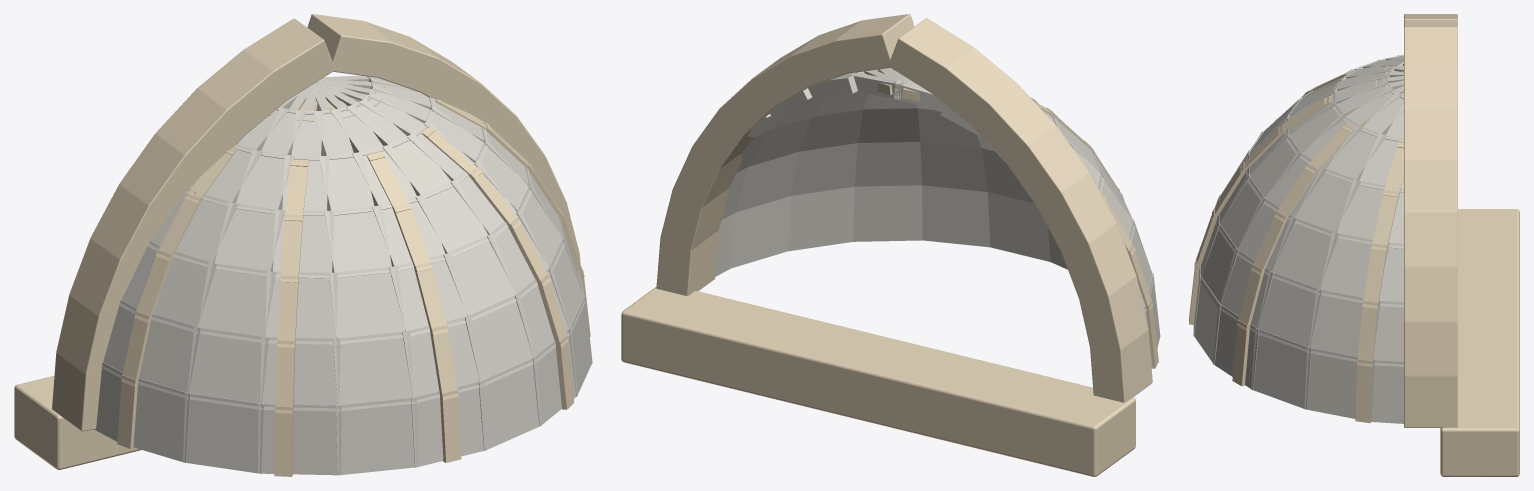
Rendered from half-dome-hood-45942f72.glb.
3 views of the same model, side by side, from view 1: azimuth 30°, elevation 25°; view 2: azimuth 150°, elevation 25°; view 3: azimuth 270°, elevation 25° (orthographic). The views are drawn at different scales.
Parts seen in each view (by area): view 1: half-dome-hood; view 2: half-dome-hood; view 3: half-dome-hood.
Part boxes in pixels (x1=…): half-dome-hood: x1=14, y1=14, x2=592, y2=476; half-dome-hood: x1=621, y1=14, x2=1160, y2=476; half-dome-hood: x1=1189, y1=14, x2=1519, y2=476.
Bounding box in the file's own units: 3.3 × 2.39 × 2.08.
